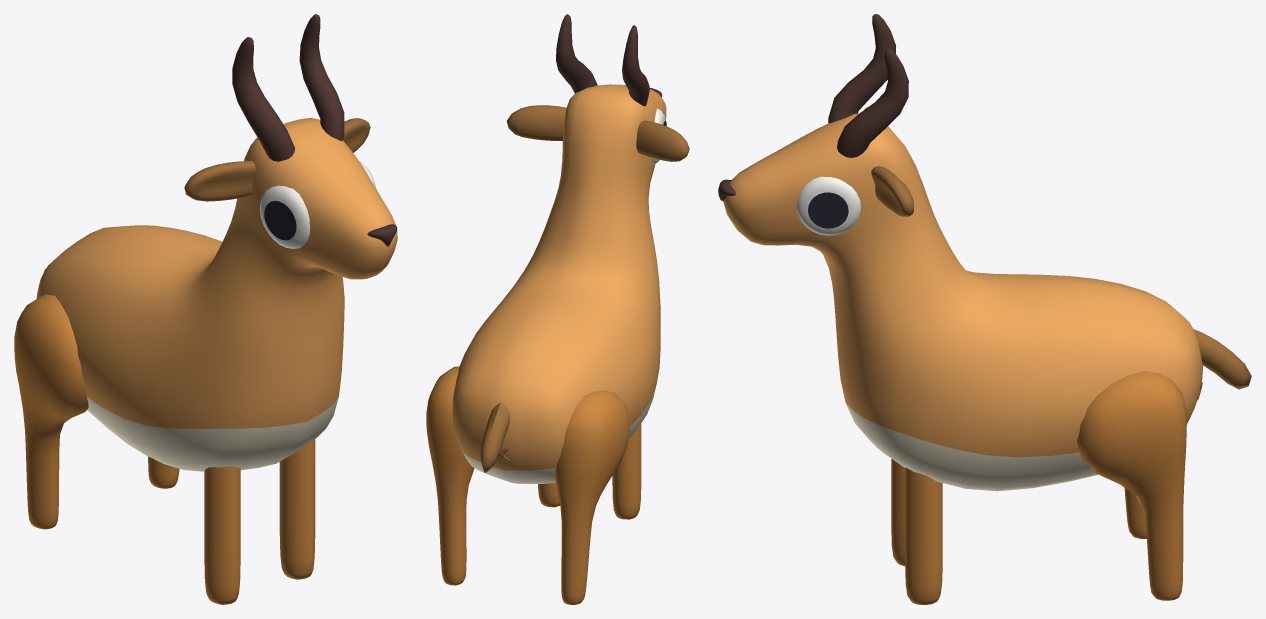
Rendered from Antelope.glb.
3 views of the same model, side by side, from view 1: azimuth 30°, elevation 25°; view 2: azimuth 150°, elevation 25°; view 3: azimuth 270°, elevation 25° (orthographic). The views are drawn at different scales.
Visible parts, largest first — view 1: Antelope; view 2: Antelope; view 3: Antelope.
Boxes of the visible parts, x1,y1,x2,y2 form: Antelope: (14, 14, 397, 604); Antelope: (426, 14, 689, 604); Antelope: (718, 14, 1251, 604).
Bounding box in the file's own units: 1.34 × 3.12 × 2.72.
1 material, 1 textured.
